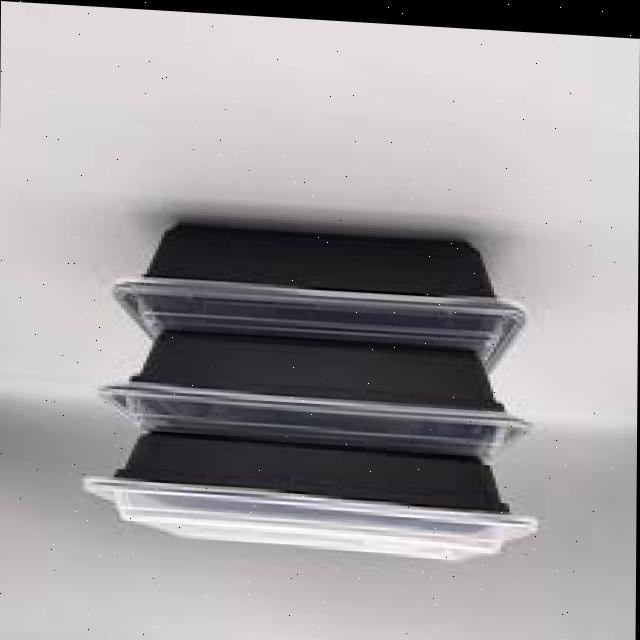disposable: (85, 418, 539, 577), (114, 215, 517, 368), (98, 315, 544, 449)
